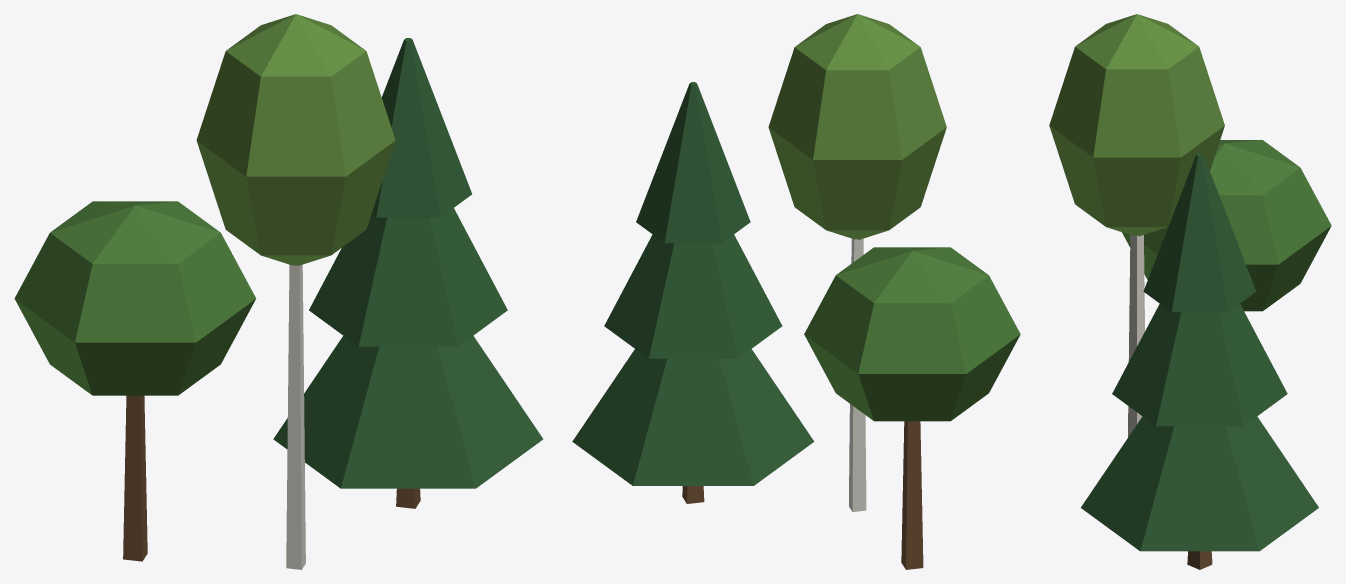
Rendered from young_trees.glb.
3 renders of one model, left to right at view 1: azimuth 30°, elevation 25°; view 2: azimuth 150°, elevation 25°; view 3: azimuth 270°, elevation 25°, orthographic. The views are drawn at different scales.
Parts seen in each view (by area): view 1: young_trees; view 2: young_trees; view 3: young_trees.
Boxes of the visible parts, left/top/right/bottom form: young_trees: left=14, top=14, right=543, bottom=569; young_trees: left=572, top=14, right=1020, bottom=569; young_trees: left=1049, top=14, right=1331, bottom=569.
Size of the model in its own units: 3.66 by 4.28 by 2.25.
